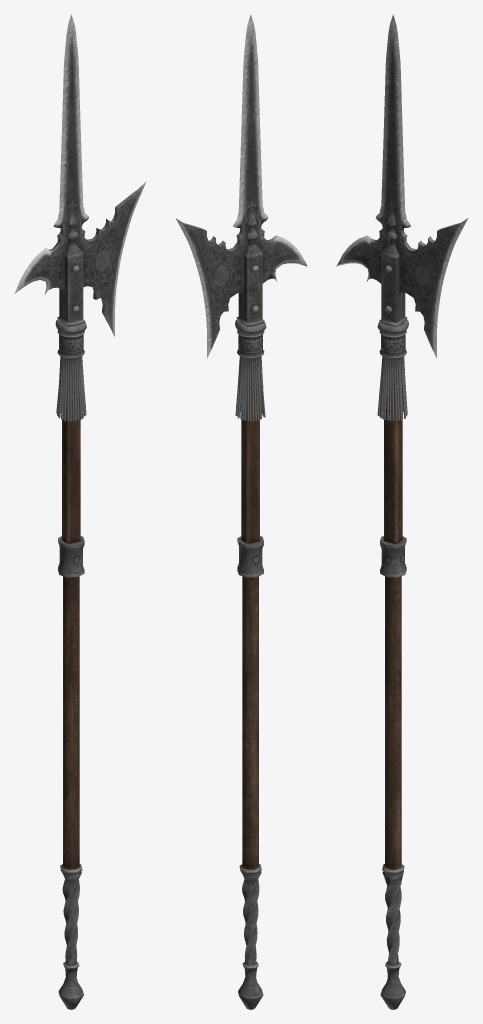
Rendered from halberd-romarov-1.glb.
3 views of the same model, side by side, from view 1: azimuth 30°, elevation 25°; view 2: azimuth 210°, elevation 25°; view 3: azimuth 330°, elevation 25° (orthographic).
Visible parts, largest first — view 1: Object_2; view 2: Object_2; view 3: Object_2.
Part boxes in pixels (x1,y1,x2,y2): Object_2: [14, 14, 146, 1009]; Object_2: [175, 14, 307, 1009]; Object_2: [336, 14, 468, 1009].
Size of the model in its own units: 0.327 by 2.35 by 0.0638.
Materials: 4 (4 with a texture image).
